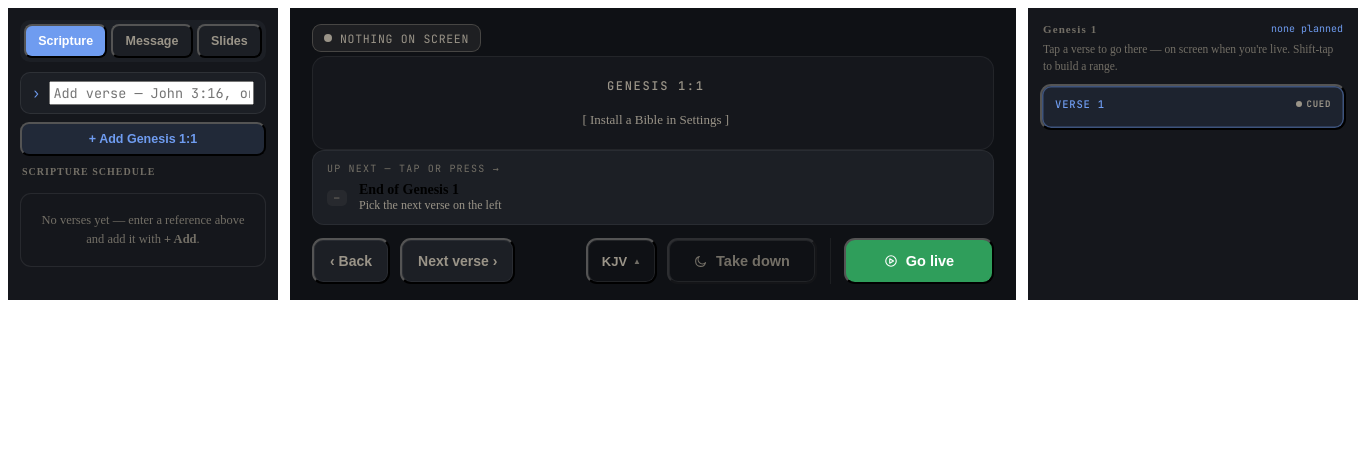
Test: SermonMode — the book-name ghost is wired to the entry › typing a book prefix shows the completion as dim ghost text
Focus the field with placeholder "Add verse — John 3:16, or search a word": coordinates (152, 93) [49,81,254,105]
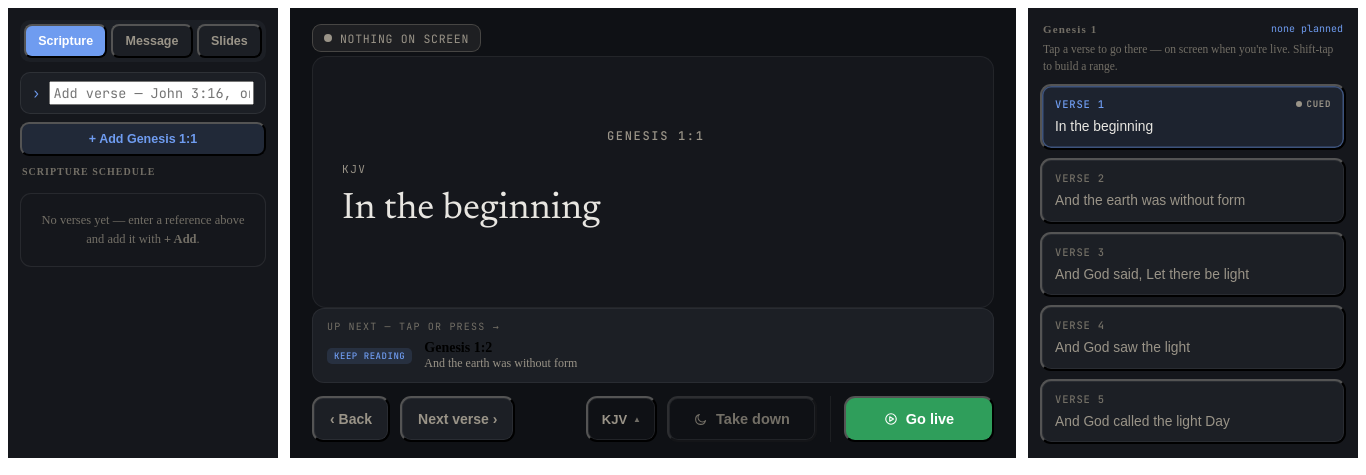
Press m in the field with placeholder "Add verse — John 3:16, or search a word", box [49,81,254,105]
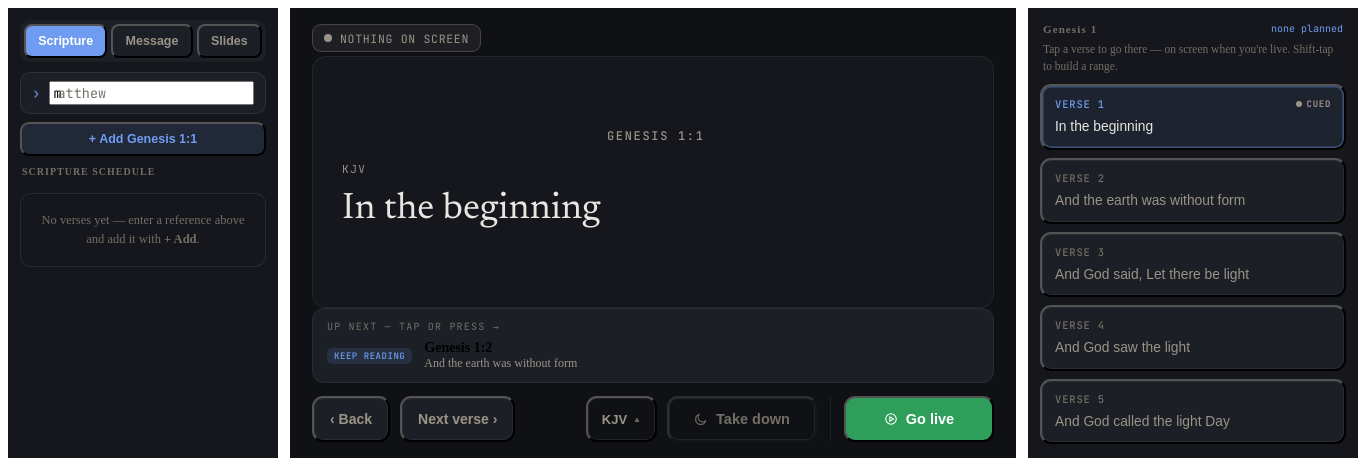
Press a in the field with placeholder "Add verse — John 3:16, or search a word", box [49,81,254,105]
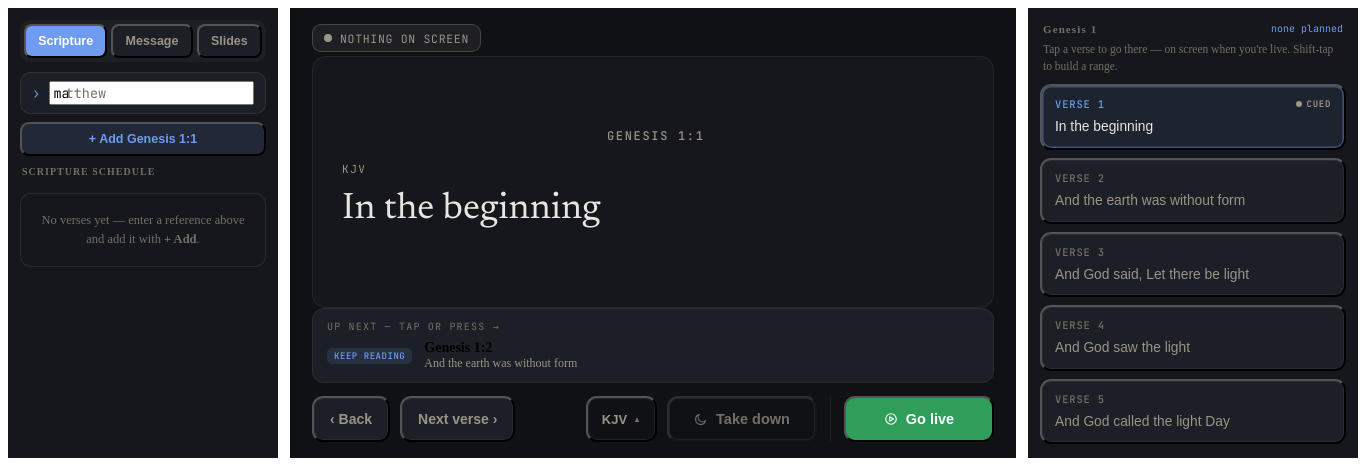
Now the text "tthew" is shown, box [66,84,106,102]
